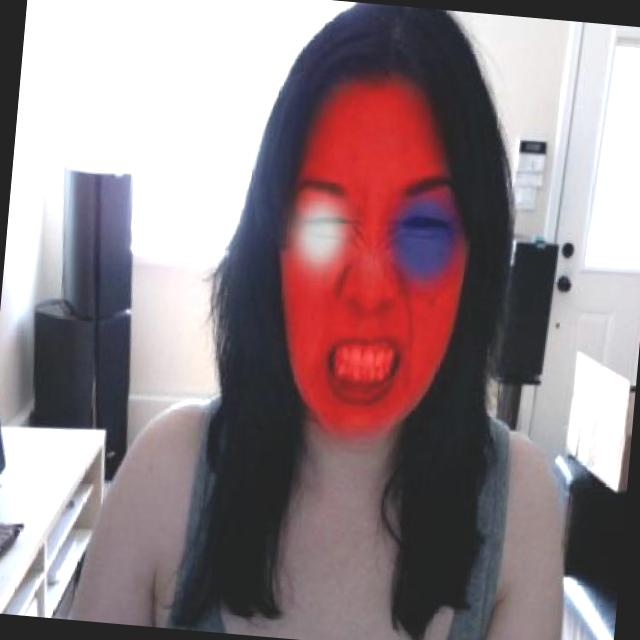Person: (116, 4, 584, 640)
